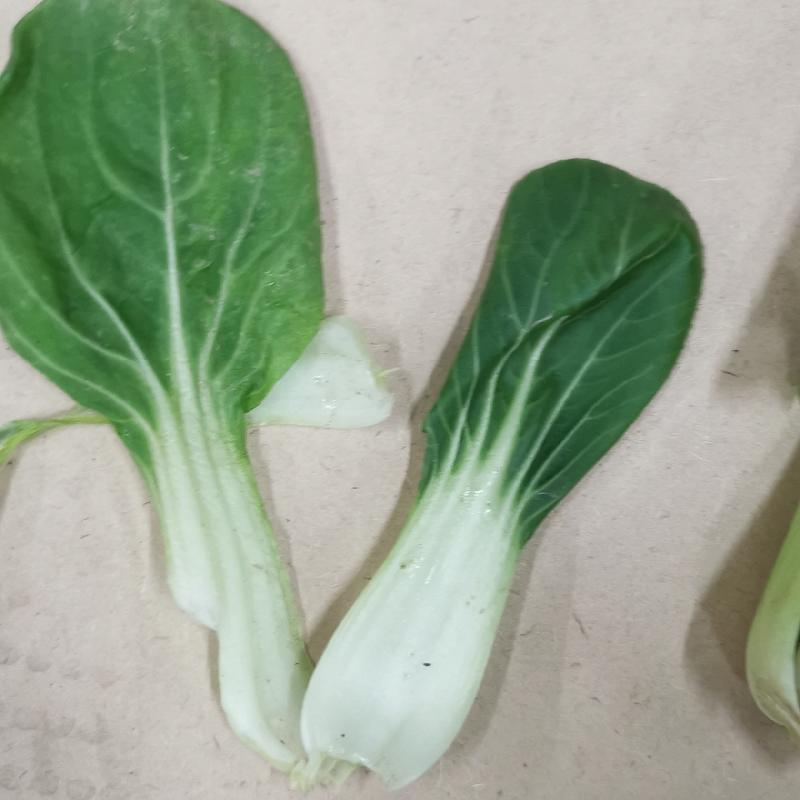green vegatable: (296, 151, 703, 799), (5, 5, 315, 771)
